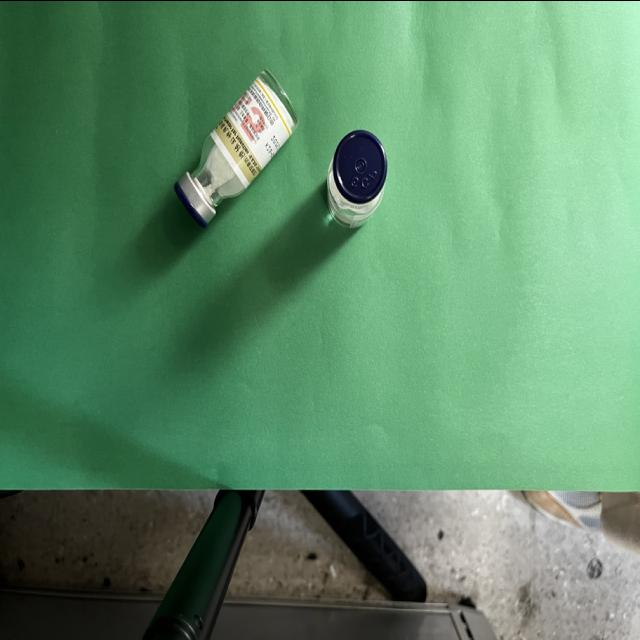Vials: (176, 71, 298, 225), (326, 129, 387, 227)
